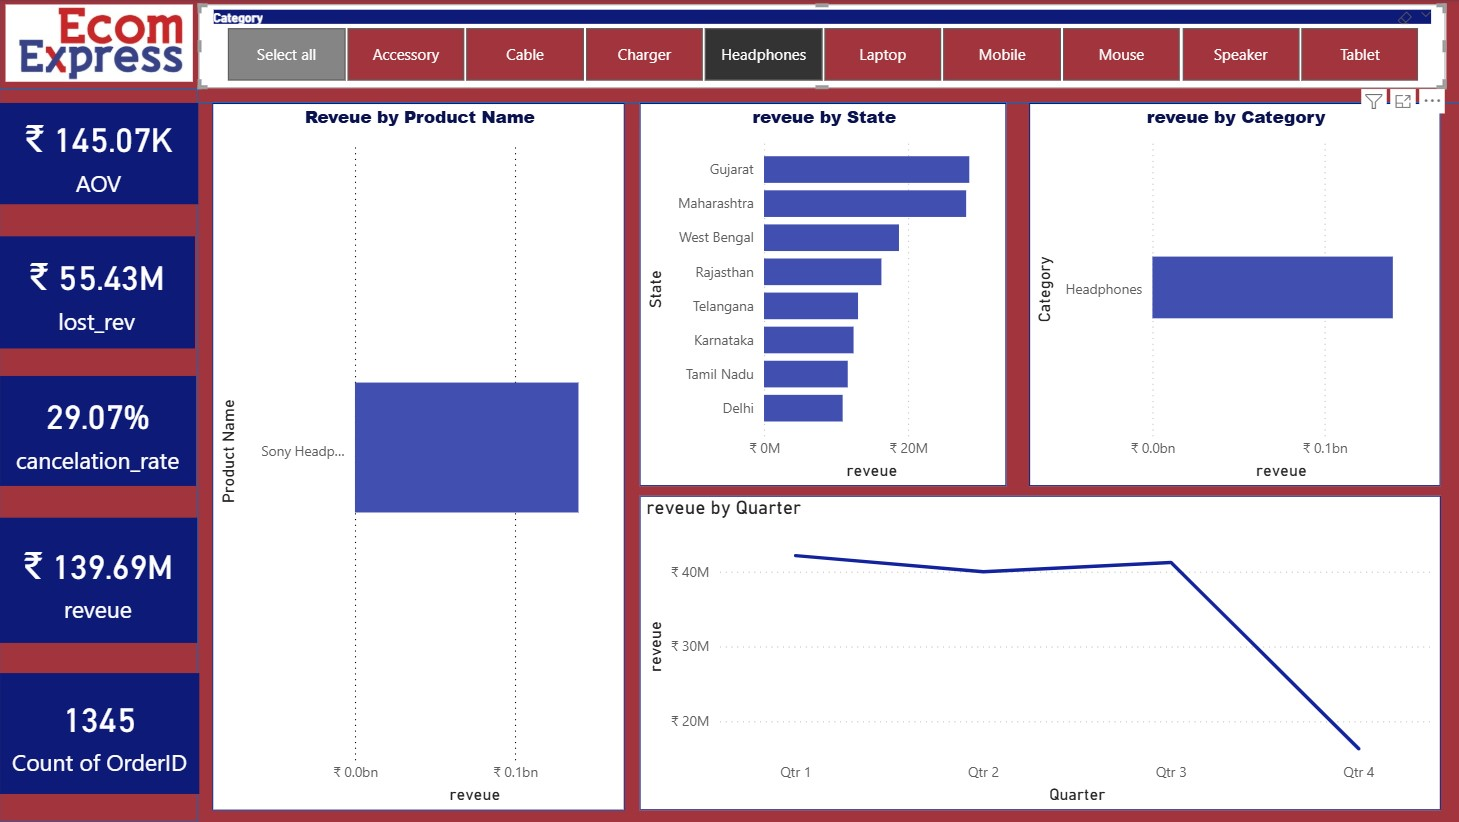

Layout of this report page (visuals, bound fields, positions):
{"tool":"powerbi","page":{"name":"Page 1","canvas":[1280,720],"ordinal":0},"visuals":[{"type":"shape","box":[0,0,1280,91.1],"z":0},{"type":"image","box":[0,0,174.4,77.8],"z":1000},{"type":"shape","box":[0,77.8,174.4,642.2],"z":2000},{"type":"barChart","title":"Reveue by Product Name","fields":{"Y":["Table.reveue"],"Category":["Products.Product Name"]},"box":[186.7,91.1,361.1,618.9],"z":3000},{"type":"barChart","fields":{"Category":["Products.Category"],"Y":["Table.reveue"]},"box":[901.1,91.1,360,335.6],"z":4000},{"type":"lineChart","fields":{"Category":["Orders.Date and time of purchase.Variation.Date Hierarchy.Year","Orders.Date and time of purchase.Variation.Date Hierarchy.Quarter","Orders.Date and time of purchase.Variation.Date Hierarchy.Month","Orders.Date and time of purchase.Variation.Date Hierarchy.Day"],"Y":["Table.reveue"]},"box":[560,434.4,701.1,275.6],"z":5000},{"type":"barChart","fields":{"Category":["Customers.State"],"Y":["Table.reveue"]},"box":[560,91.1,321.1,335.6],"z":6000},{"type":"slicer","fields":{"Values":["Products.Category"]},"box":[174.4,4.4,1091.1,73.3],"z":7000},{"type":"card","fields":{"Values":["Table.AOV"]},"box":[0,91.1,174.4,88.9],"z":8000},{"type":"card","fields":{"Values":["Table.cancelation_rate"]},"box":[1.1,330,171.1,96.7],"z":9000},{"type":"card","fields":{"Values":["Table.lost_rev"]},"box":[0,207.8,171.1,97.8],"z":10000},{"type":"card","fields":{"Values":["Table.reveue"]},"box":[0,453.3,173.3,110],"z":11000},{"type":"card","title":"total orders","fields":{"Values":["CountNonNull(Orders.OrderID)"]},"box":[1.1,590,174.4,105.6],"z":12000}]}

Visuals, with their boxes in screenshot pixels (x1, y1, x2, y2), scaled from the page's 1280x720 canvas onto the 1459x822 screenshot:
shape: l=0, t=0, r=1458, b=104
image: l=0, t=0, r=199, b=89
shape: l=0, t=89, r=199, b=821
"Reveue by Product Name" barChart: l=213, t=104, r=624, b=811
barChart - Products.Category x Table.reveue: l=1027, t=104, r=1437, b=487
lineChart - Orders.Date and time of purchase.Variation.Date Hierarchy.Year x Orders.Date and time of purchase.Variation.Date Hierarchy.Quarter: l=638, t=496, r=1437, b=811
barChart - Customers.State x Table.reveue: l=638, t=104, r=1004, b=487
slicer - Products.Category: l=199, t=5, r=1442, b=89
card - Table.AOV: l=0, t=104, r=199, b=206
card - Table.cancelation_rate: l=1, t=377, r=196, b=487
card - Table.lost_rev: l=0, t=237, r=195, b=349
card - Table.reveue: l=0, t=518, r=198, b=643
"total orders" card: l=1, t=674, r=200, b=794
